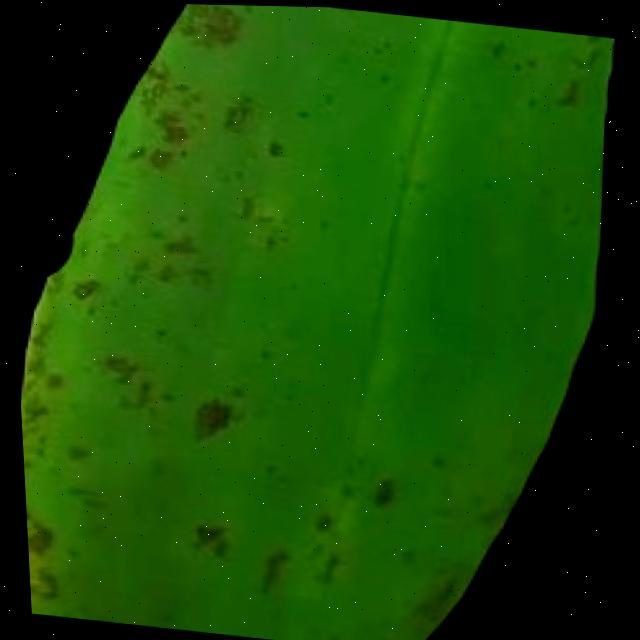mite: (487, 32, 512, 60), (309, 507, 332, 533)
spots: (12, 0, 627, 640)
